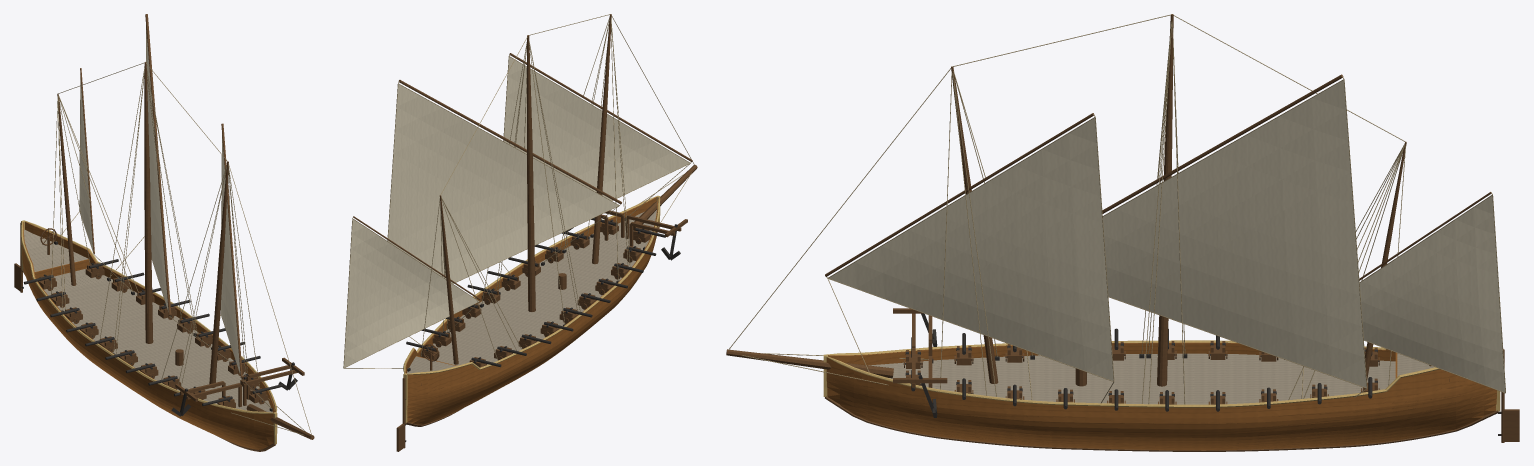
The picture shows the model from 3 angles, left to right: view 1: azimuth 30°, elevation 25°; view 2: azimuth 150°, elevation 25°; view 3: azimuth 270°, elevation 25°; orthographic projection. The views are drawn at different scales.
Parts seen in each view (by area): view 1: lod2_main_deck, lod2_hull_shell_starboard, lod2_main_lateen_00, lod2_main, lod2_fore_lateen_00, lod2_hull_shell_port, lod2_castle_deck_0, lod2_fore, lod2_mizzen_lateen_00, lod2_main_lateen_00_lateen_yard, lod2_gunwale_starboard, lod2_mizzen (+9 smaller); view 2: lod2_main_lateen_00, lod2_fore_lateen_00, lod2_mizzen_lateen_00, lod2_main_deck, lod2_hull_shell_starboard, lod2_main, lod2_fore, lod2_hull_shell_port, lod2_gunwale_starboard, lod2_main_lateen_00_lateen_yard, lod2_mizzen, lod2_fore_lateen_00_lateen_yard (+3 smaller); view 3: lod2_main_lateen_00, lod2_fore_lateen_00, lod2_hull_shell_port, lod2_mizzen_lateen_00, lod2_main_deck, lod2_hull_shell_starboard, lod2_gunwale_port, lod2_keel, lod2_main, lod2_bowsprit, lod2_main_lateen_00_lateen_yard, lod2_fore_lateen_00_lateen_yard (+2 smaller).
Boxes of the visible parts, x1=… form: lod2_main_deck: x1=44, y1=268, x2=272, y2=412; lod2_hull_shell_starboard: x1=22, y1=222, x2=273, y2=449; lod2_main_lateen_00: x1=146, y1=30, x2=168, y2=310; lod2_main: x1=144, y1=62, x2=153, y2=343; lod2_fore_lateen_00: x1=221, y1=139, x2=240, y2=373; lod2_hull_shell_port: x1=25, y1=222, x2=275, y2=412; lod2_castle_deck_0: x1=24, y1=230, x2=88, y2=271; lod2_fore: x1=209, y1=161, x2=228, y2=387; lod2_mizzen_lateen_00: x1=79, y1=80, x2=93, y2=251; lod2_main_lateen_00_lateen_yard: x1=145, y1=14, x2=171, y2=315; lod2_gunwale_starboard: x1=21, y1=221, x2=273, y2=413; lod2_mizzen: x1=57, y1=94, x2=76, y2=285; lod2_main_lateen_00: x1=388, y1=84, x2=618, y2=283; lod2_fore_lateen_00: x1=504, y1=57, x2=689, y2=200; lod2_mizzen_lateen_00: x1=344, y1=219, x2=478, y2=367; lod2_main_deck: x1=433, y1=210, x2=656, y2=365; lod2_hull_shell_starboard: x1=407, y1=198, x2=658, y2=424; lod2_main: x1=527, y1=35, x2=535, y2=311; lod2_fore: x1=592, y1=14, x2=611, y2=264; lod2_hull_shell_port: x1=405, y1=197, x2=656, y2=373; lod2_gunwale_starboard: x1=407, y1=196, x2=660, y2=374; lod2_main_lateen_00_lateen_yard: x1=398, y1=80, x2=621, y2=204; lod2_mizzen: x1=439, y1=195, x2=458, y2=364; lod2_fore_lateen_00_lateen_yard: x1=509, y1=53, x2=692, y2=161; lod2_main_lateen_00: x1=1103, y1=80, x2=1366, y2=387; lod2_fore_lateen_00: x1=829, y1=118, x2=1113, y2=380; lod2_hull_shell_port: x1=826, y1=357, x2=1496, y2=450; lod2_mizzen_lateen_00: x1=1359, y1=196, x2=1505, y2=392; lod2_main_deck: x1=868, y1=353, x2=1395, y2=404; lod2_hull_shell_starboard: x1=828, y1=342, x2=1395, y2=365; lod2_gunwale_port: x1=826, y1=356, x2=1439, y2=407; lod2_keel: x1=825, y1=396, x2=1498, y2=451; lod2_main: x1=1157, y1=14, x2=1173, y2=386; lod2_bowsprit: x1=726, y1=349, x2=893, y2=378; lod2_main_lateen_00_lateen_yard: x1=1102, y1=74, x2=1343, y2=213; lod2_fore_lateen_00_lateen_yard: x1=825, y1=113, x2=1094, y2=276.
Bounding box in the file's own units: 8.69 × 20.12 × 33.05.
7 materials, 7 textured.
